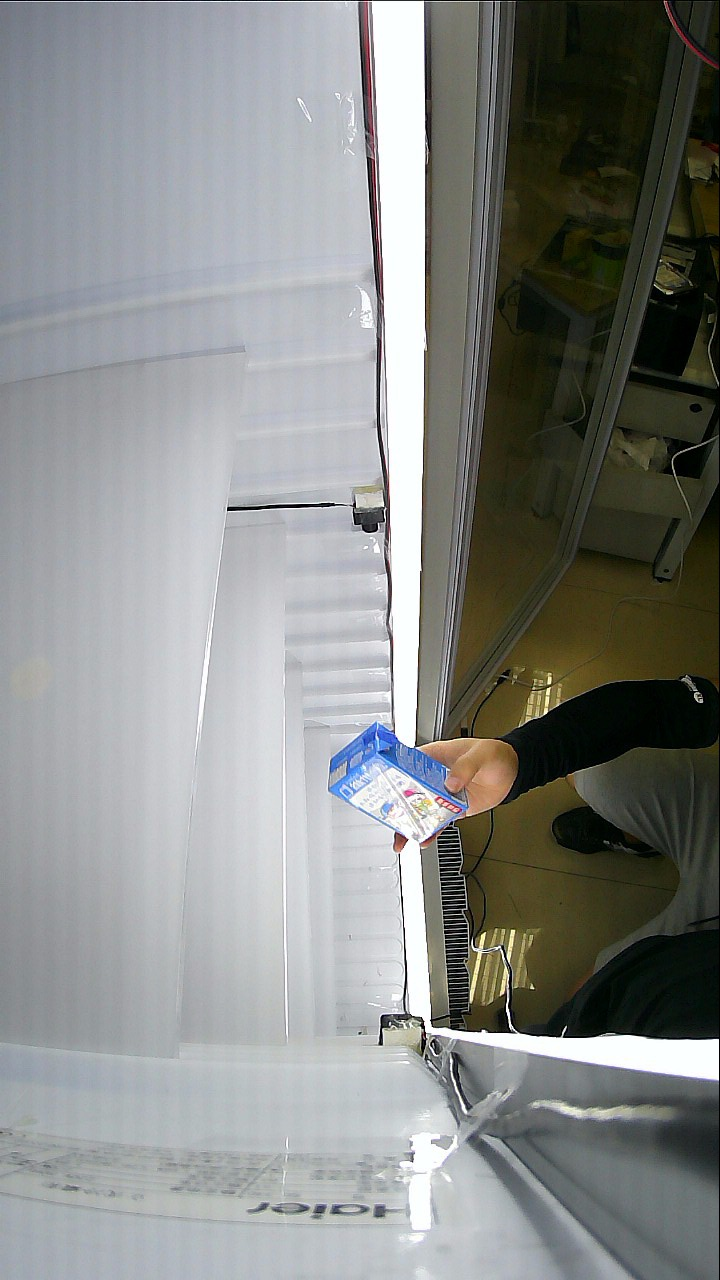VitaSoyOriginal: (332, 721, 534, 853)
